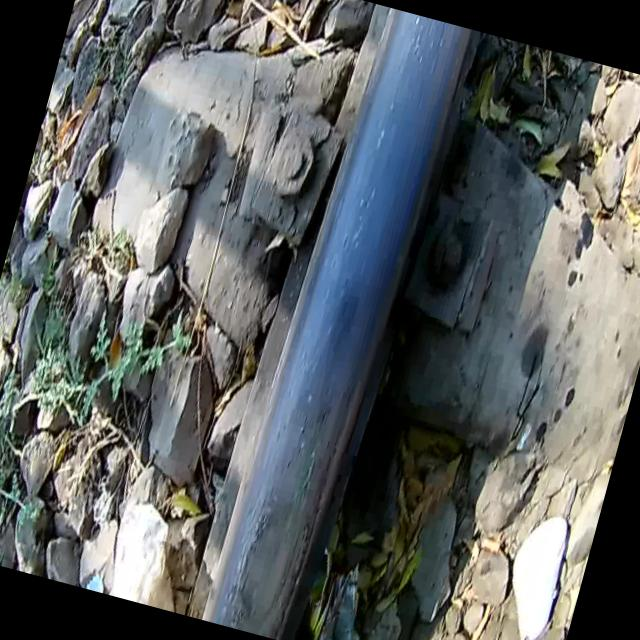Squats: (186, 0, 489, 640)
